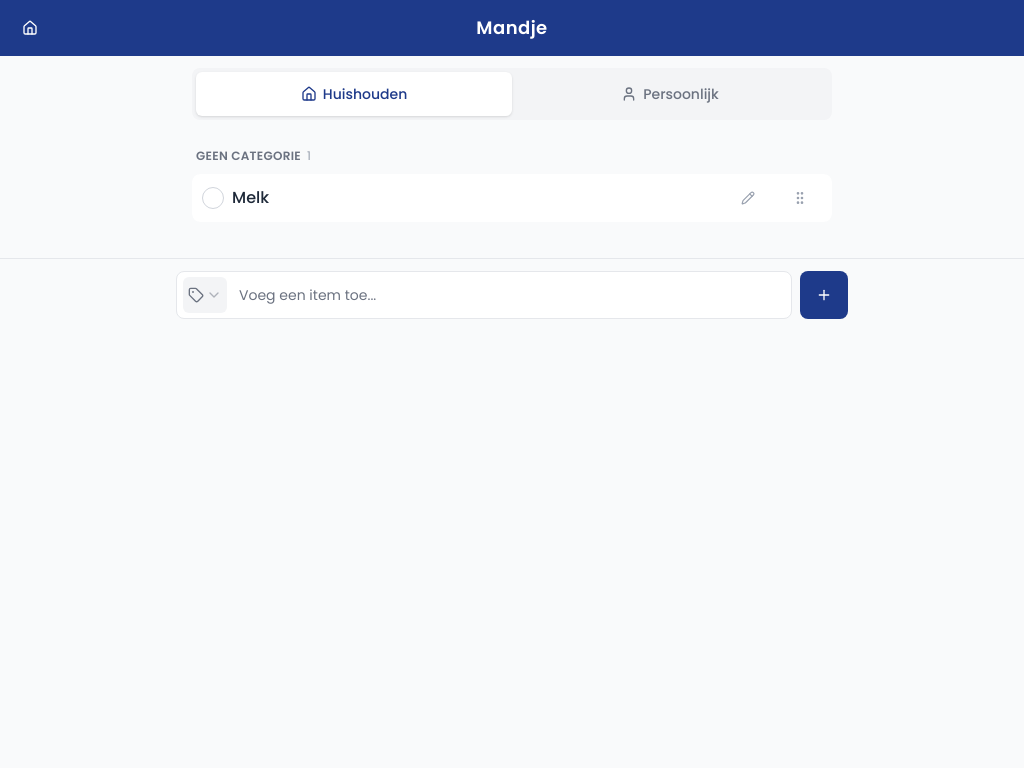
Test: HouseholdClientPage › adding an item › shows the item straight away, before the server has answered
In the field with placeholder "Voeg een item toe...": coordinates (511, 295) [231,272,791,318], type "brood"
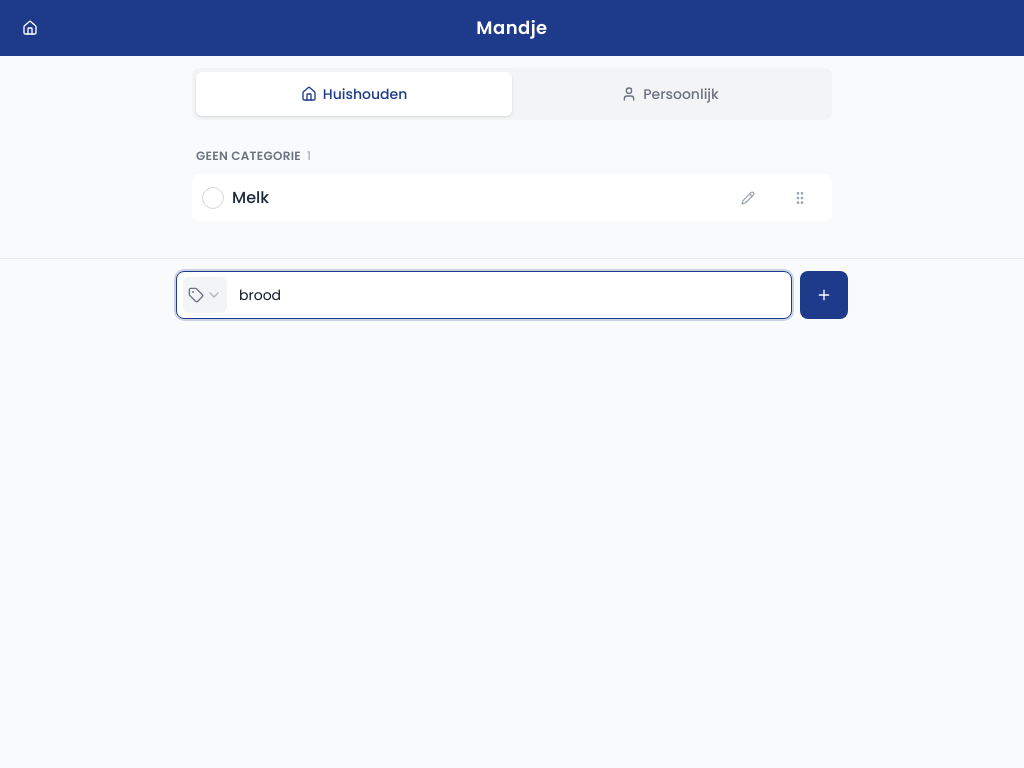
Click the button named "Item toevoegen": coordinates (824, 295) [800,271,848,319]
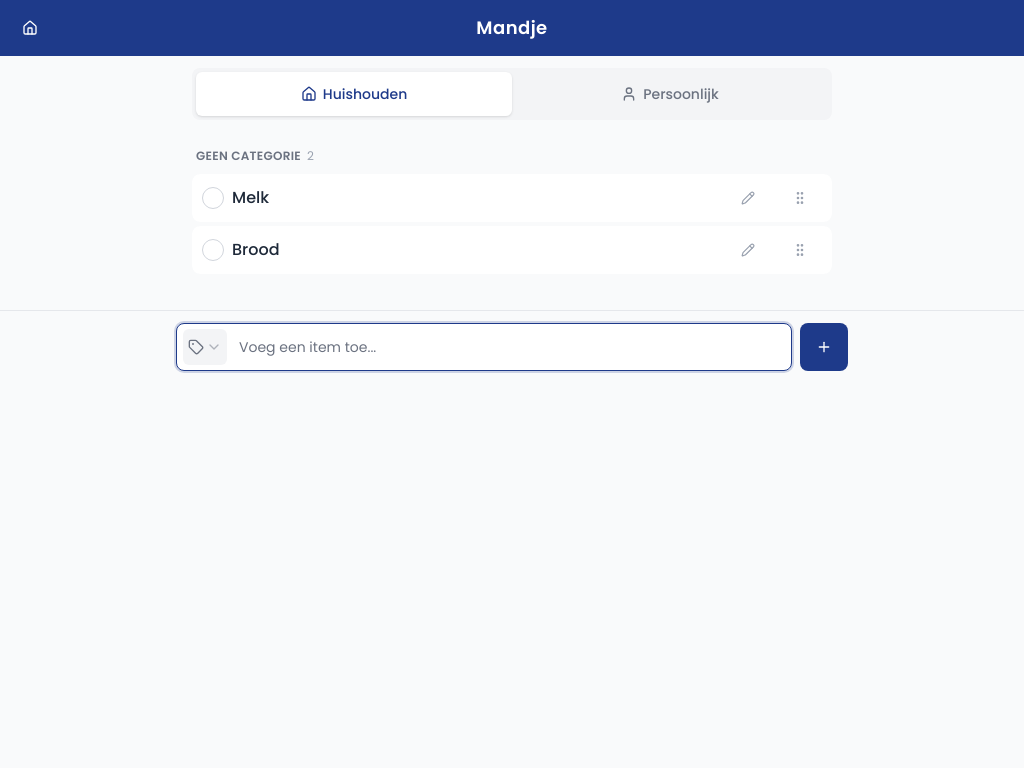
Check: the text "brood" is shown, box [232,238,280,261]
